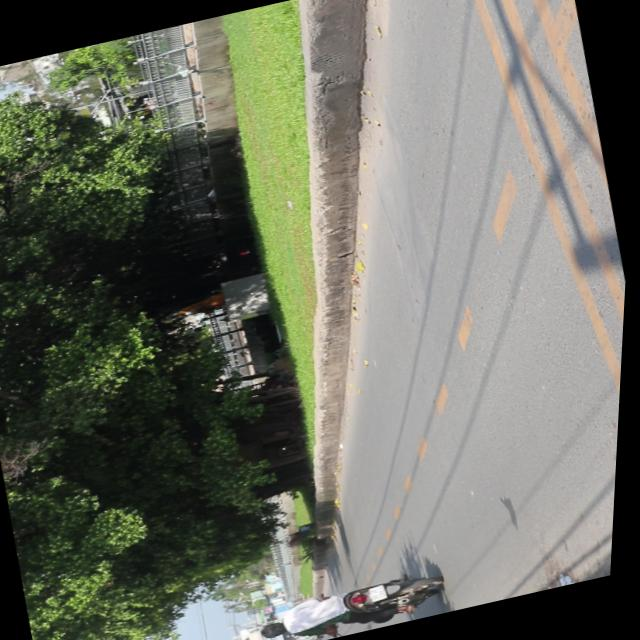licenseplate: (257, 562, 454, 640)
motorcyclist: (262, 617, 293, 639)
nohelmet: (372, 582, 394, 602)
